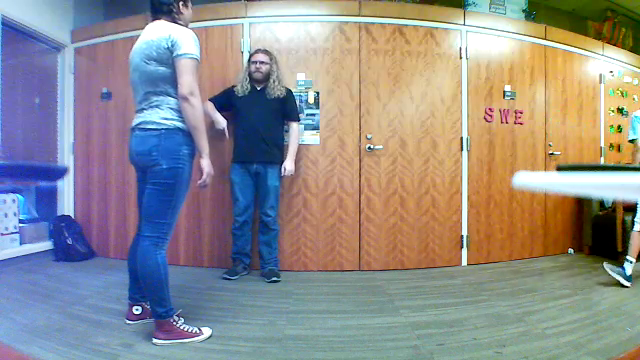down: (208, 111, 232, 146)
